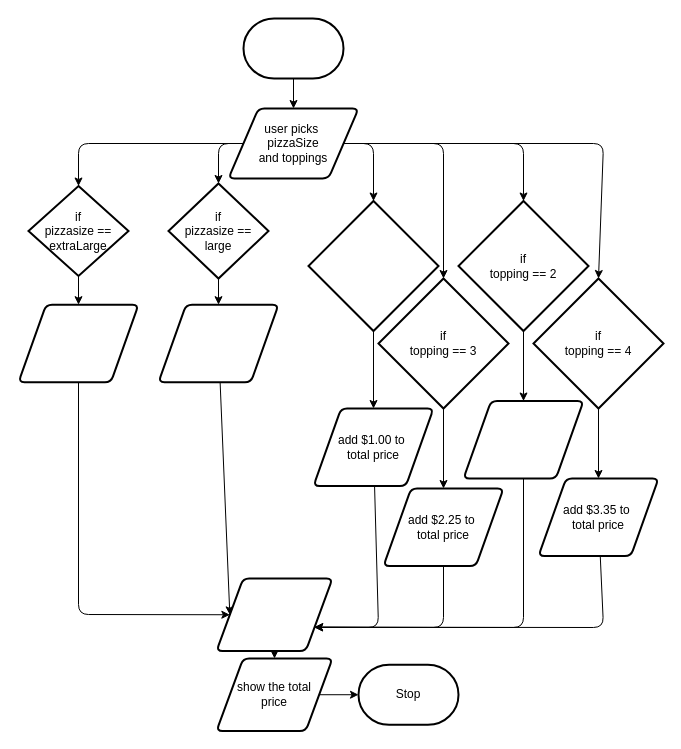
Some shapes in this 681 by 749 pixel diagram are drawn without their labels. Here are the shapes that lost their labels. From the top down, the centre of each, then its label:
the point at 293,48: start
the point at 373,266: if topping == 1
the point at 78,343: add $6.00 to total price
the point at 218,343: add $10.00 to total price
the point at 523,439: add $1.75 to total price
the point at 274,614: Add all prices and the tax
